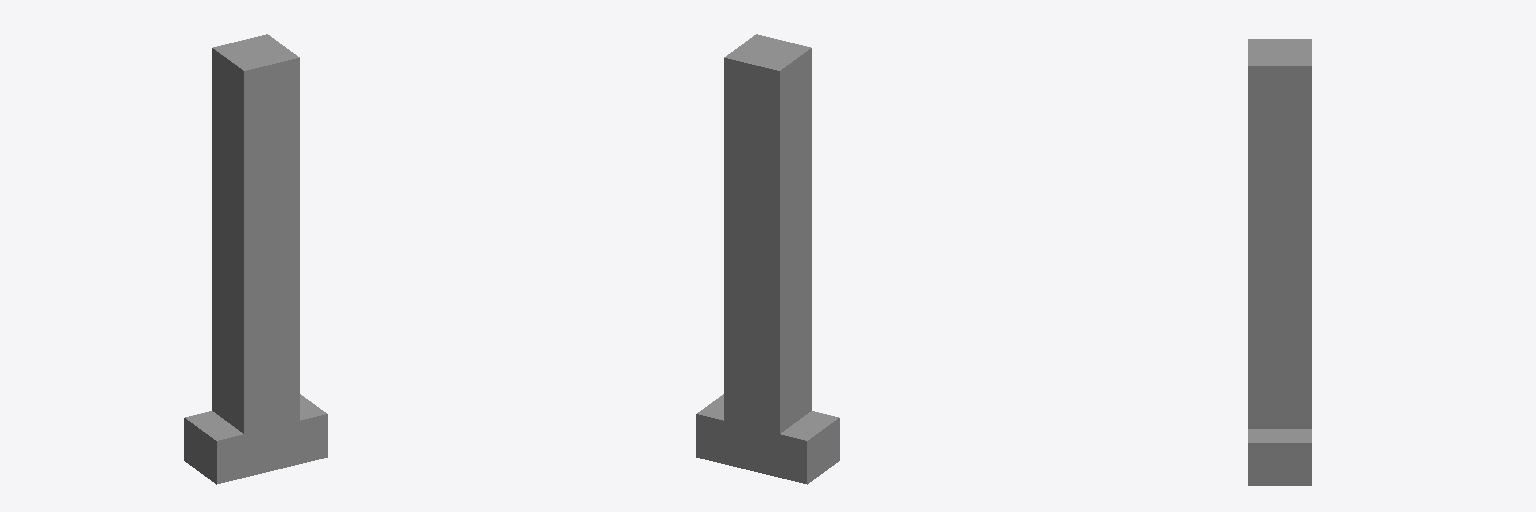
Rendered from support.obj.
The picture shows the model from 3 angles: view 1: azimuth 30°, elevation 25°; view 2: azimuth 150°, elevation 25°; view 3: azimuth 270°, elevation 25°; orthographic projection.
Parts seen in each view (by area): view 1: frame_Shape19, base_Shape18; view 2: frame_Shape19, base_Shape18; view 3: frame_Shape19, base_Shape18.
Part boxes in pixels (x1,y1,x2,y2): frame_Shape19: (212,34,299,433); base_Shape18: (184,394,327,484); frame_Shape19: (724,34,811,433); base_Shape18: (696,394,839,484); frame_Shape19: (1248,39,1311,428); base_Shape18: (1248,429,1311,485).
Bounding box in the file's own units: 1 × 3.5 × 0.5.